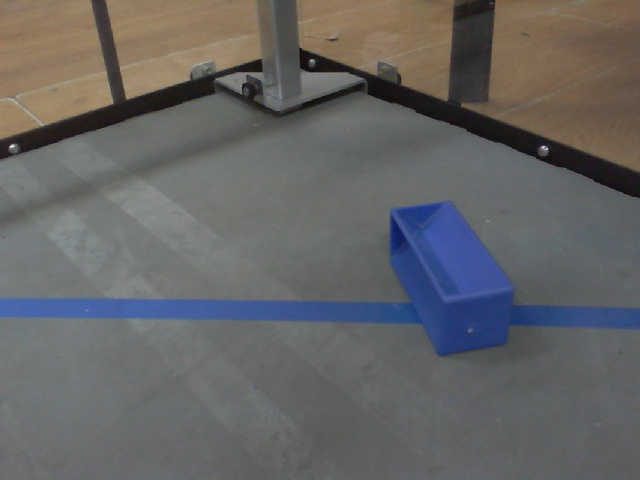BlueSample: (389, 197, 517, 365)
